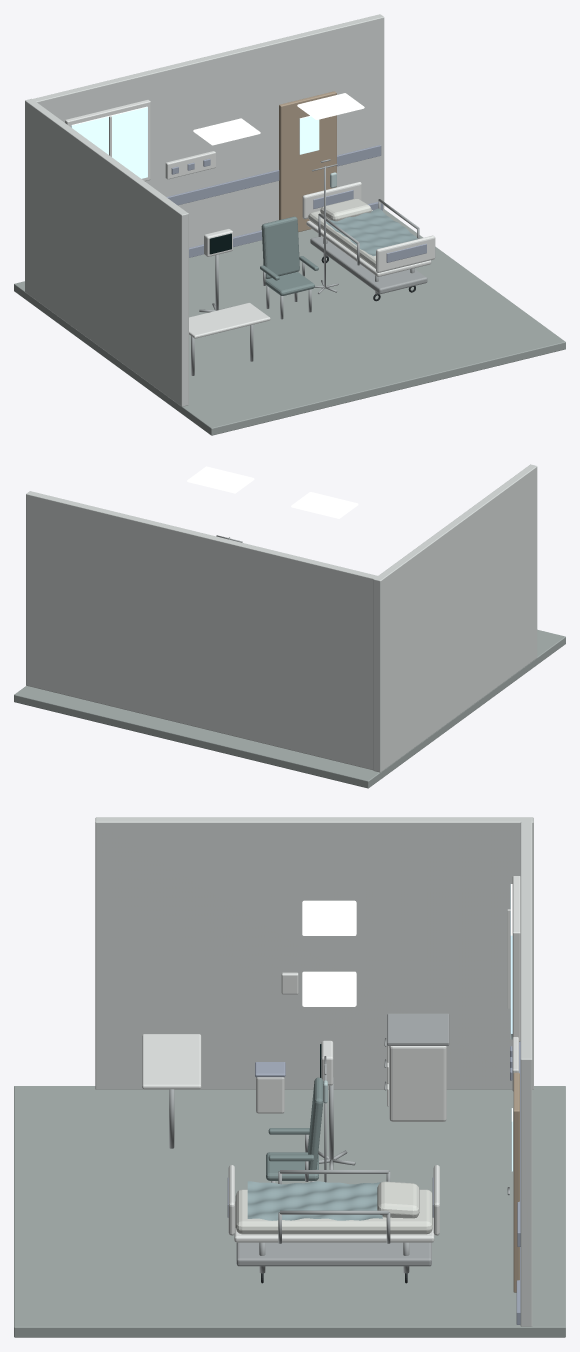
Rendered from examination.glb.
3 renders of one model, top to bottom at view 1: azimuth 30°, elevation 25°; view 2: azimuth 150°, elevation 25°; view 3: azimuth 270°, elevation 25°, orthographic. The views are drawn at different scales.
Visible parts, largest first — view 1: RoomFloor, BackWall, LeftWall, Door, WindowGlass, FoldedCover, ChairBack, WallProtectionBand, BedUnderframe, WritingSurface, BedEndBoard, CeilingLuminaire (+10 smaller); view 2: BackWall, LeftWall, RoomFloor, CeilingLuminaire.001, CeilingLuminaire; view 3: RoomFloor, LeftWall, BackWall, BedUnderframe, FoldedCover, Cabinet, Mattress, WritingSurface, CabinetTop, CeilingLuminaire.001, CeilingLuminaire, MattressBase (+6 smaller).
Boxes of the visible parts, box(x1,y1,x2,y2) form: RoomFloor: box(14, 209, 565, 435); BackWall: box(27, 14, 384, 247); LeftWall: box(25, 98, 188, 406); Door: box(279, 91, 336, 231); WindowGlass: box(71, 106, 147, 178); FoldedCover: box(326, 208, 417, 256); ChairBack: box(261, 216, 299, 278); WallProtectionBand: box(166, 145, 381, 205); BedUnderframe: box(310, 236, 427, 294); WritingSurface: box(189, 302, 270, 338); BedEndBoard: box(376, 235, 435, 272); CeilingLuminaire: box(193, 118, 260, 145); BackWall: box(26, 491, 383, 770); LeftWall: box(373, 464, 537, 772); RoomFloor: box(14, 629, 565, 788); CeilingLuminaire.001: box(187, 466, 254, 493); CeilingLuminaire: box(291, 492, 358, 518); RoomFloor: box(14, 1086, 565, 1337); LeftWall: box(95, 817, 533, 1089); BackWall: box(520, 818, 532, 1326); BedUnderframe: box(236, 1242, 431, 1266); FoldedCover: box(247, 1181, 382, 1220); Cabinet: box(389, 1046, 446, 1121); Mattress: box(235, 1189, 432, 1234); WritingSurface: box(142, 1034, 201, 1089); CabinetTop: box(387, 1013, 449, 1045); CeilingLuminaire.001: box(302, 971, 356, 1006); CeilingLuminaire: box(302, 900, 356, 935); MattressBase: box(234, 1201, 434, 1242).
Size of the model in its own units: 5.81 by 3.12 by 5.6.
